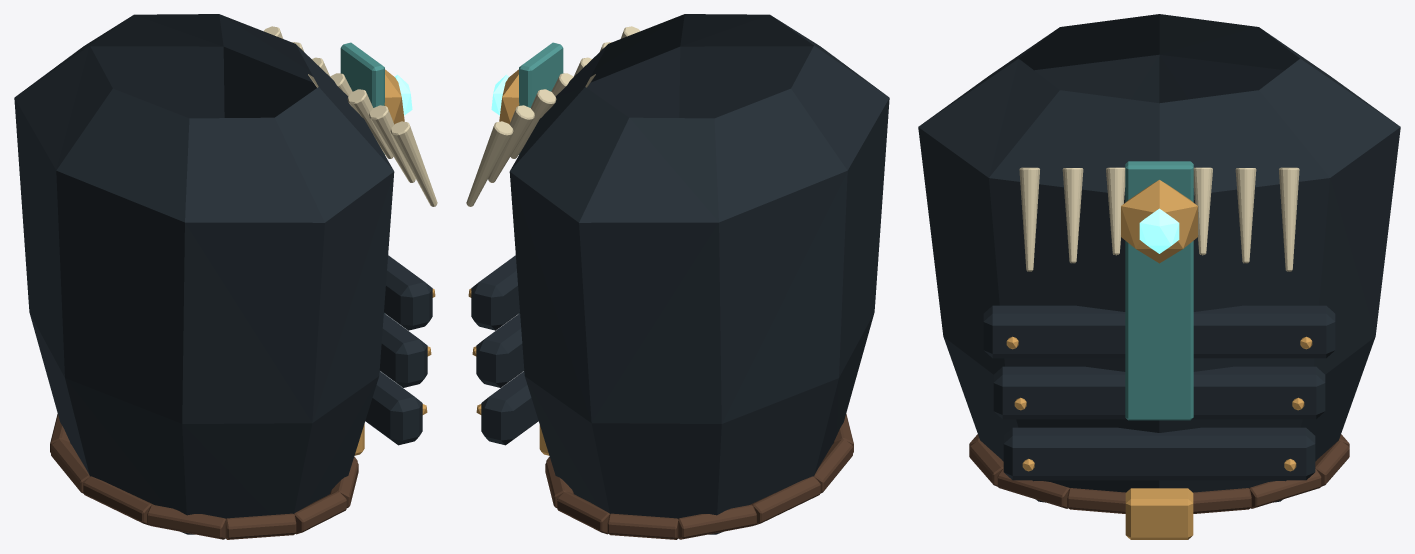
The model's file is SM_Life_Chest_Seer.fbx.
3 views of the same model, side by side, from view 1: azimuth 30°, elevation 25°; view 2: azimuth 150°, elevation 25°; view 3: azimuth 270°, elevation 25° (orthographic).
Visible parts, largest first — view 1: SM_Life_Chest_Seer; view 2: SM_Life_Chest_Seer; view 3: SM_Life_Chest_Seer.
Part boxes in pixels (bbox=[...]): SM_Life_Chest_Seer: bbox=[14, 14, 437, 539]; SM_Life_Chest_Seer: bbox=[466, 14, 889, 539]; SM_Life_Chest_Seer: bbox=[918, 14, 1400, 539].
Bounding box in the file's own units: 40.45 × 45.25 × 48.
